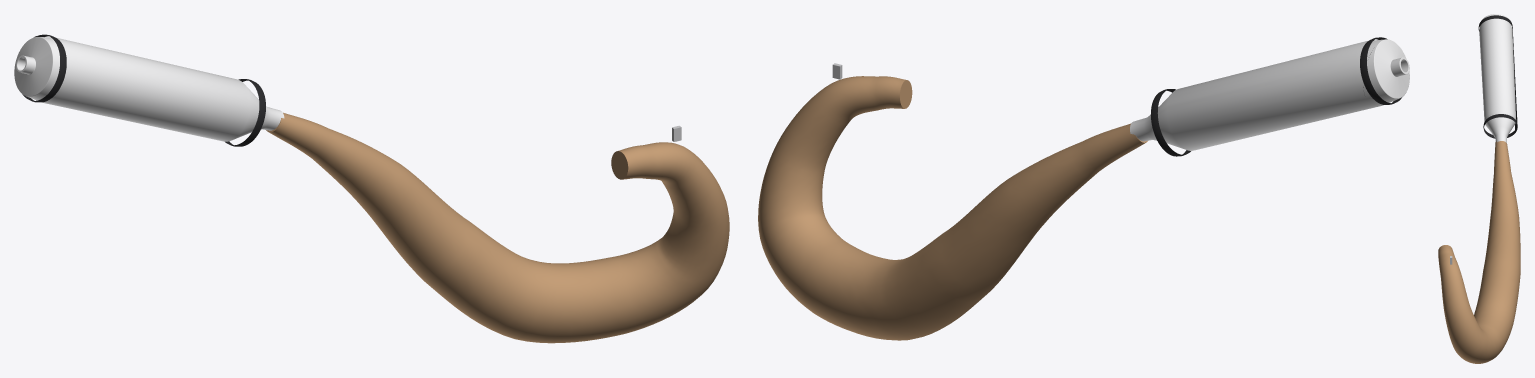
File: bike_mx_2t__exhaust.glb
3 renders of one model, left to right at view 1: azimuth 30°, elevation 25°; view 2: azimuth 150°, elevation 25°; view 3: azimuth 270°, elevation 25°, orthographic. The views are drawn at different scales.
Parts seen in each view (by area): view 1: powertrain__exhaust__expansion_chamber, powertrain__exhaust__silencer, powertrain__exhaust__silencer_bands; view 2: powertrain__exhaust__expansion_chamber, powertrain__exhaust__silencer, powertrain__exhaust__silencer_bands; view 3: powertrain__exhaust__expansion_chamber, powertrain__exhaust__silencer, powertrain__exhaust__silencer_bands.
Boxes of the visible parts, bbox=[...] form: powertrain__exhaust__expansion_chamber: bbox=[266, 112, 729, 343]; powertrain__exhaust__silencer: bbox=[14, 37, 284, 141]; powertrain__exhaust__silencer_bands: bbox=[22, 34, 265, 146]; powertrain__exhaust__expansion_chamber: bbox=[758, 76, 1147, 340]; powertrain__exhaust__silencer: bbox=[1130, 39, 1409, 150]; powertrain__exhaust__silencer_bands: bbox=[1150, 37, 1401, 156]; powertrain__exhaust__expansion_chamber: bbox=[1438, 141, 1520, 363]; powertrain__exhaust__silencer: bbox=[1479, 14, 1516, 142]; powertrain__exhaust__silencer_bands: bbox=[1478, 15, 1517, 138].
Bounding box in the file's own units: 108 × 64.39 × 22.81.
